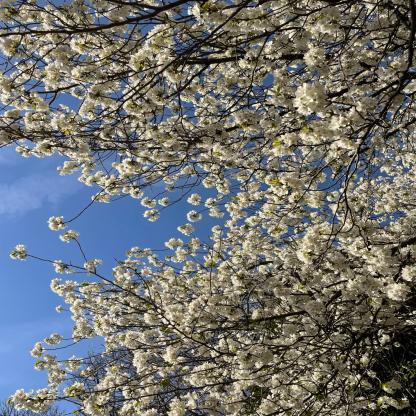OshimaSakura: (2, 1, 416, 415)
